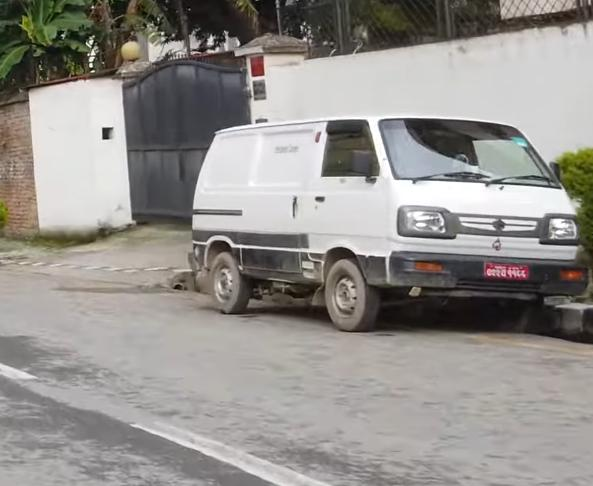van: (186, 103, 592, 351)
